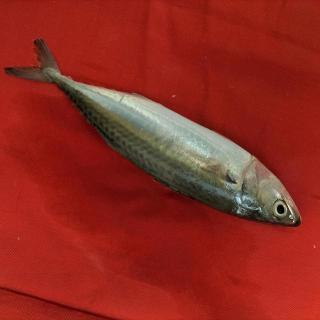Ikan: (2, 25, 312, 235)
